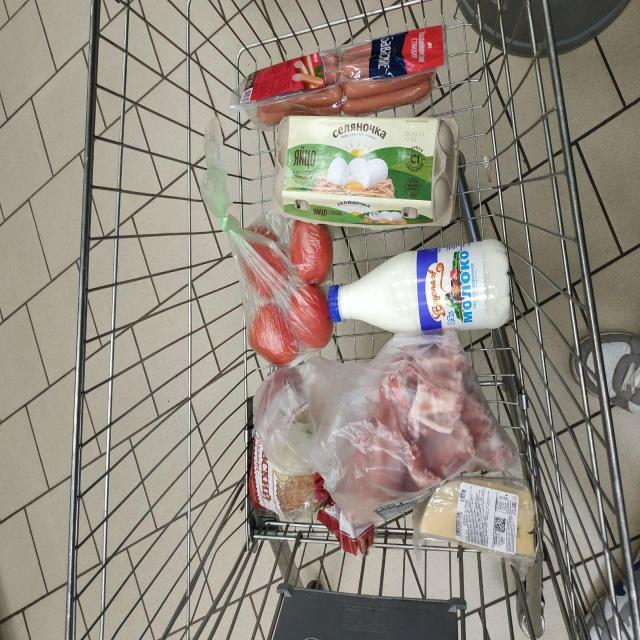Bread: (250, 433, 373, 555)
Cheese: (414, 477, 535, 574)
Meat: (355, 332, 516, 505)
Milk: (329, 240, 510, 332)
Sausages: (340, 25, 446, 115), (236, 50, 342, 126)
Tomatoes: (250, 303, 299, 364), (290, 220, 331, 285), (290, 285, 332, 348), (250, 242, 289, 278)
